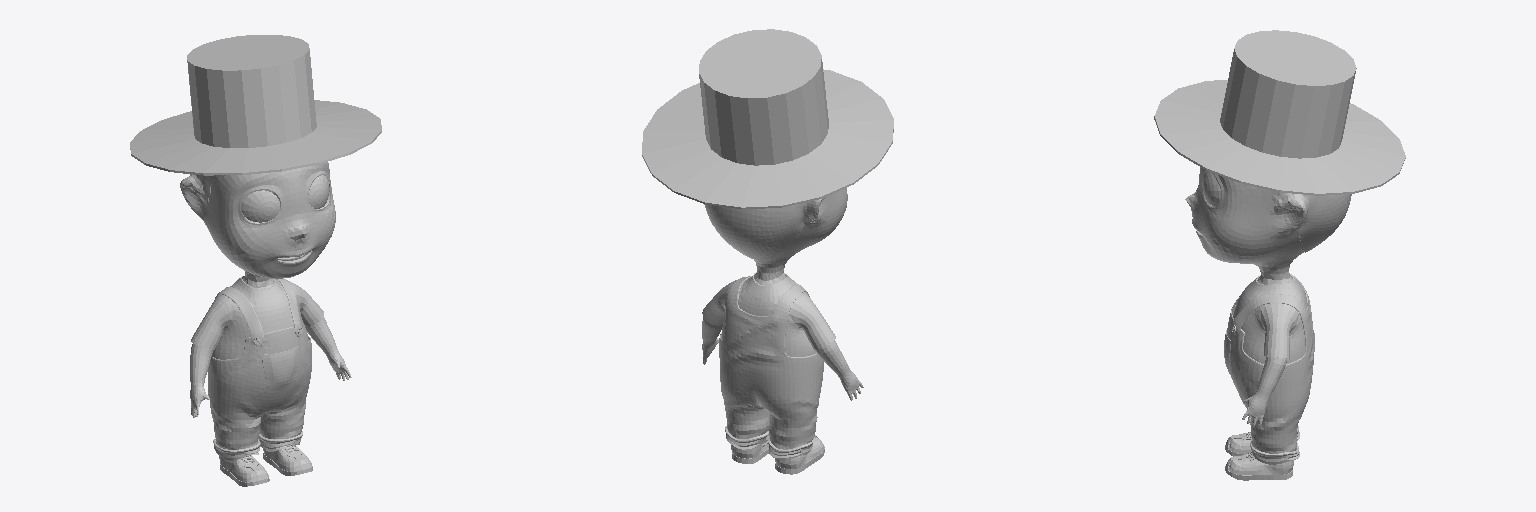
3 renders of one model, left to right at view 1: azimuth 30°, elevation 25°; view 2: azimuth 150°, elevation 25°; view 3: azimuth 270°, elevation 25°, orthographic.
Visible parts, largest first — view 1: hat_red_메쉬.025, Body_메쉬.010, jeans_메쉬.004, T_shirt_in_메쉬.020, cloth_01_메쉬.021, R_eye_메쉬.012, R_shoe_p1_메쉬.008, L_shoe_p1_메쉬.023, L_eye_메쉬.013; view 2: hat_red_메쉬.025, jeans_메쉬.004, T_shirt_in_메쉬.020, Body_메쉬.010, Hairs_메쉬.011, R_shoe_p1_메쉬.008; view 3: hat_red_메쉬.025, Body_메쉬.010, jeans_메쉬.004, T_shirt_in_메쉬.020, Hairs_메쉬.011, L_shoe_p1_메쉬.023.
Part boxes in pixels (left/top/right/bottom): hat_red_메쉬.025: left=130, top=35, right=381, bottom=175; Body_메쉬.010: left=180, top=162, right=351, bottom=417; jeans_메쉬.004: left=208, top=278, right=311, bottom=449; T_shirt_in_메쉬.020: left=191, top=276, right=323, bottom=359; cloth_01_메쉬.021: left=262, top=346, right=298, bottom=390; R_eye_메쉬.012: left=241, top=190, right=279, bottom=222; R_shoe_p1_메쉬.008: left=219, top=455, right=268, bottom=482; L_shoe_p1_메쉬.023: left=263, top=446, right=312, bottom=471; L_eye_메쉬.013: left=308, top=175, right=329, bottom=208; hat_red_메쉬.025: left=642, top=29, right=893, bottom=209; jeans_메쉬.004: left=719, top=276, right=823, bottom=449; T_shirt_in_메쉬.020: left=702, top=272, right=835, bottom=356; Body_메쉬.010: left=702, top=188, right=863, bottom=400; Hairs_메쉬.011: left=704, top=203, right=804, bottom=259; R_shoe_p1_메쉬.008: left=775, top=435, right=824, bottom=468; hat_red_메쉬.025: left=1154, top=30, right=1405, bottom=195; Body_메쉬.010: left=1185, top=167, right=1308, bottom=426; jeans_메쉬.004: left=1227, top=276, right=1314, bottom=453; T_shirt_in_메쉬.020: left=1233, top=274, right=1307, bottom=364; Hairs_메쉬.011: left=1259, top=188, right=1351, bottom=252; L_shoe_p1_메쉬.023: left=1226, top=453, right=1293, bottom=474.
Bounding box in the file's own units: 0.5105 × 0.9158 × 0.5035.